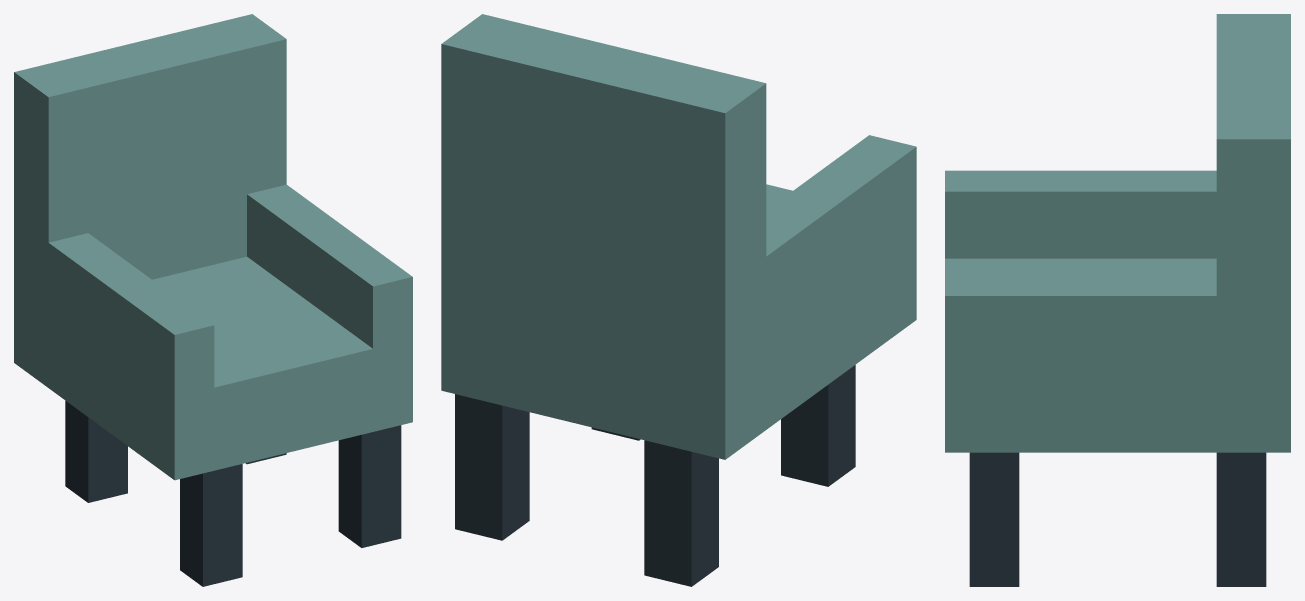
File: health-09.glb
The picture shows the model from 3 angles, left to right: view 1: azimuth 30°, elevation 25°; view 2: azimuth 150°, elevation 25°; view 3: azimuth 270°, elevation 25°; orthographic projection. The views are drawn at different scales.
Visible parts, largest first — view 1: Wheelchair; view 2: Wheelchair; view 3: Wheelchair.
Part boxes in pixels (left/top/right/bottom): Wheelchair: left=14, top=14, right=412, bottom=586; Wheelchair: left=441, top=14, right=916, bottom=586; Wheelchair: left=945, top=14, right=1290, bottom=586.
Bounding box in the file's own units: 0.96 × 1.6 × 1.12.
